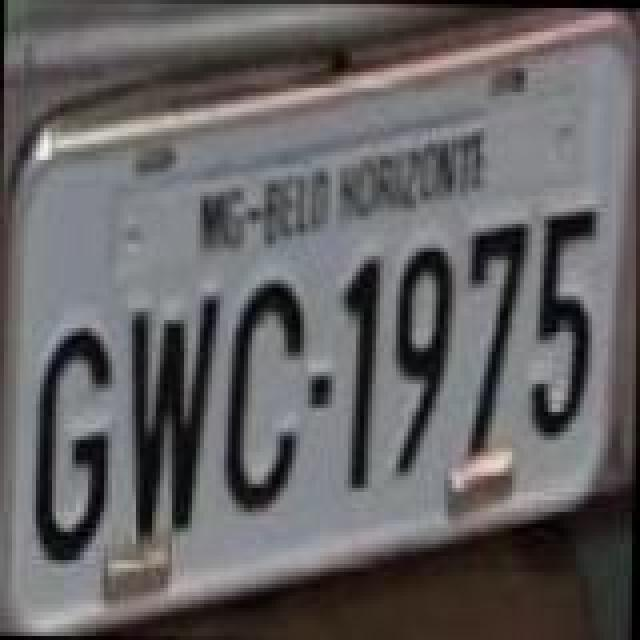1: (342, 250, 382, 490)
5: (532, 208, 600, 440)
7: (464, 218, 524, 458)
9: (390, 240, 454, 472)
C: (224, 278, 304, 518)
G: (36, 324, 116, 564)
W: (126, 300, 218, 548)
